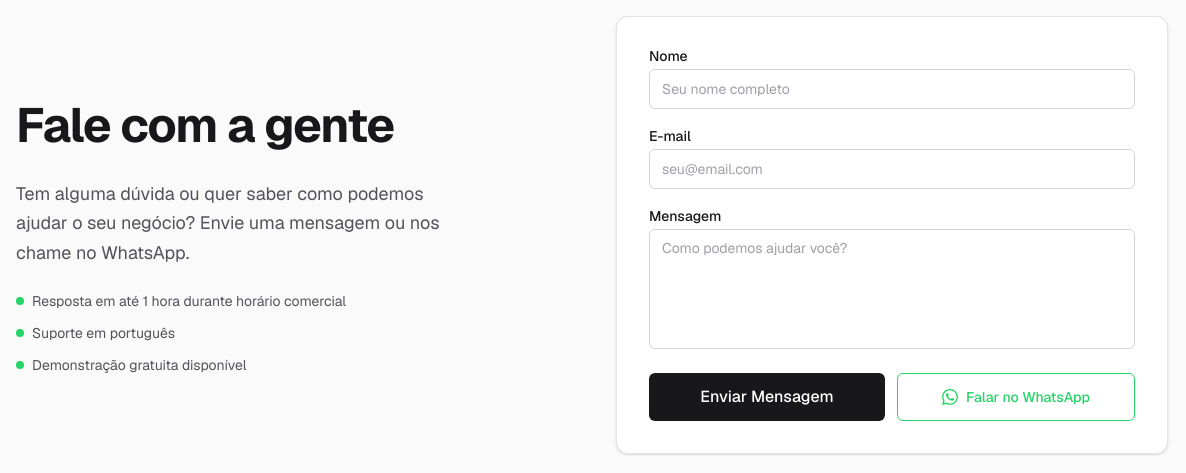
it: Contact form › loading state › shows loading state while submitting
This screenshot has width=1186, height=473.
Type "João" into the field labelled "Nome".
click(892, 89); type("João")  # box [649,69,1135,109]
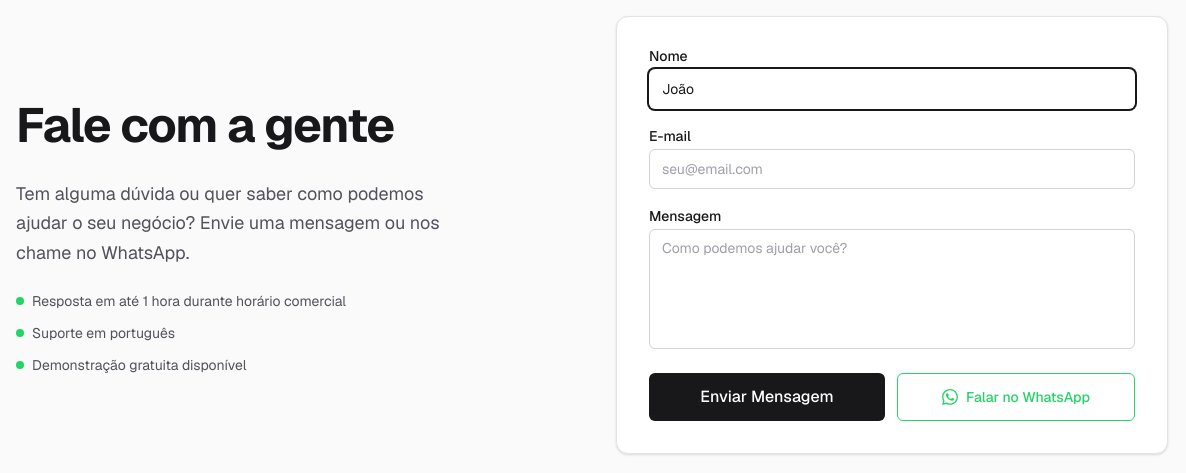
Type "joao@example.com" into the field labelled "E-mail".
click(892, 169); type("joao@example.com")  # box [649,149,1135,189]
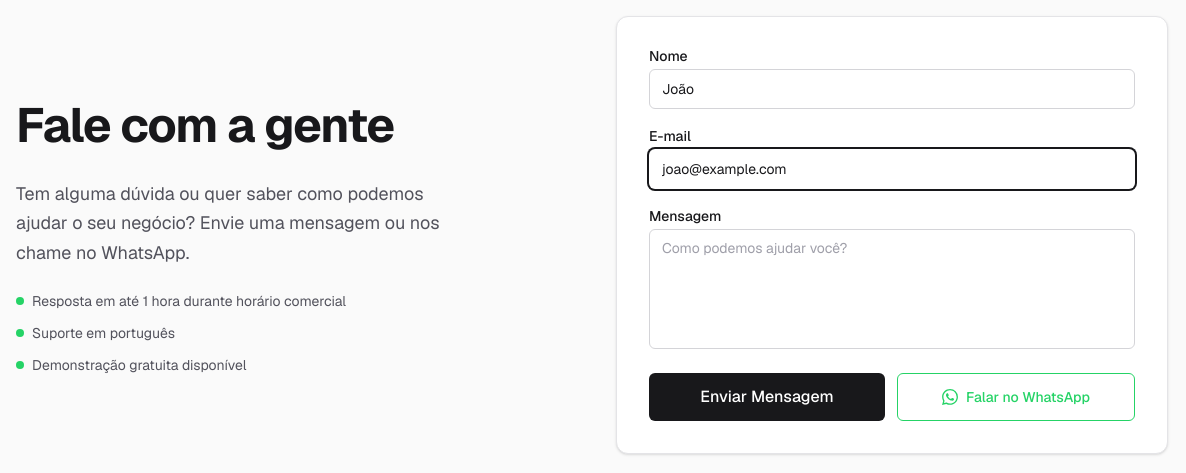
Type "Olá" into the text box labelled "Mensagem".
click(892, 289); type("Olá")  # box [649,229,1135,349]
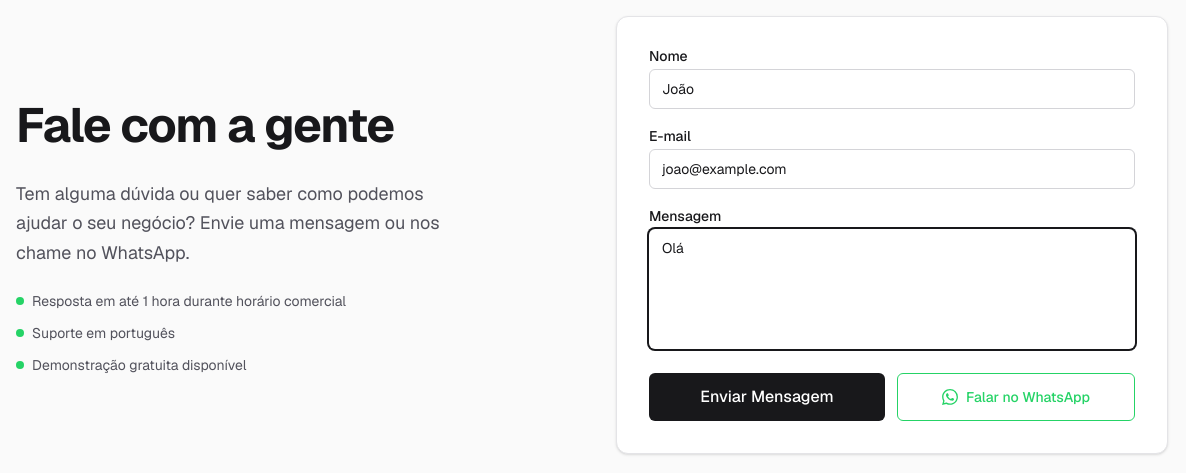
Click the button "Enviar Mensagem".
click(767, 397)  # box [649,373,885,421]
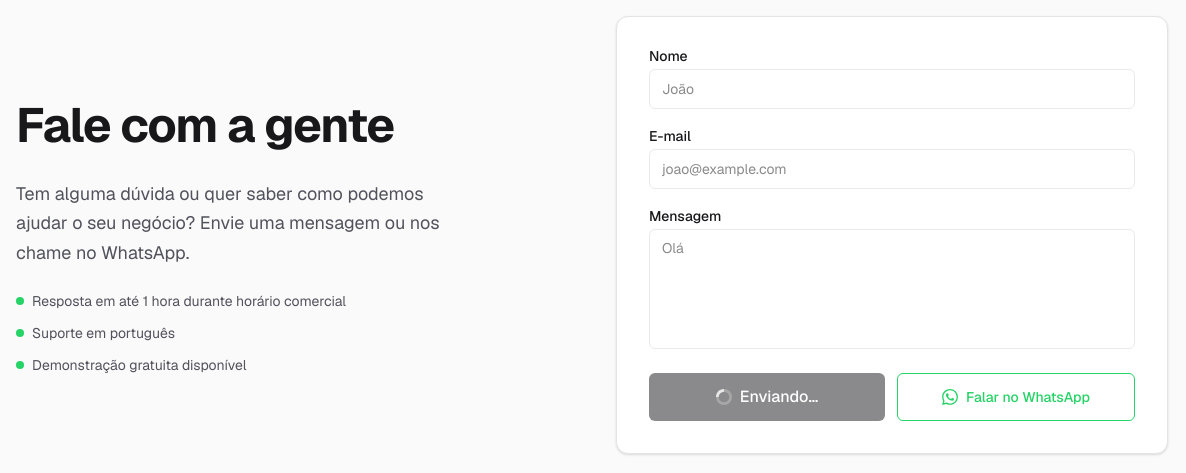
Check: the text "Enviando…" is shown, box [716,385,818,409]
